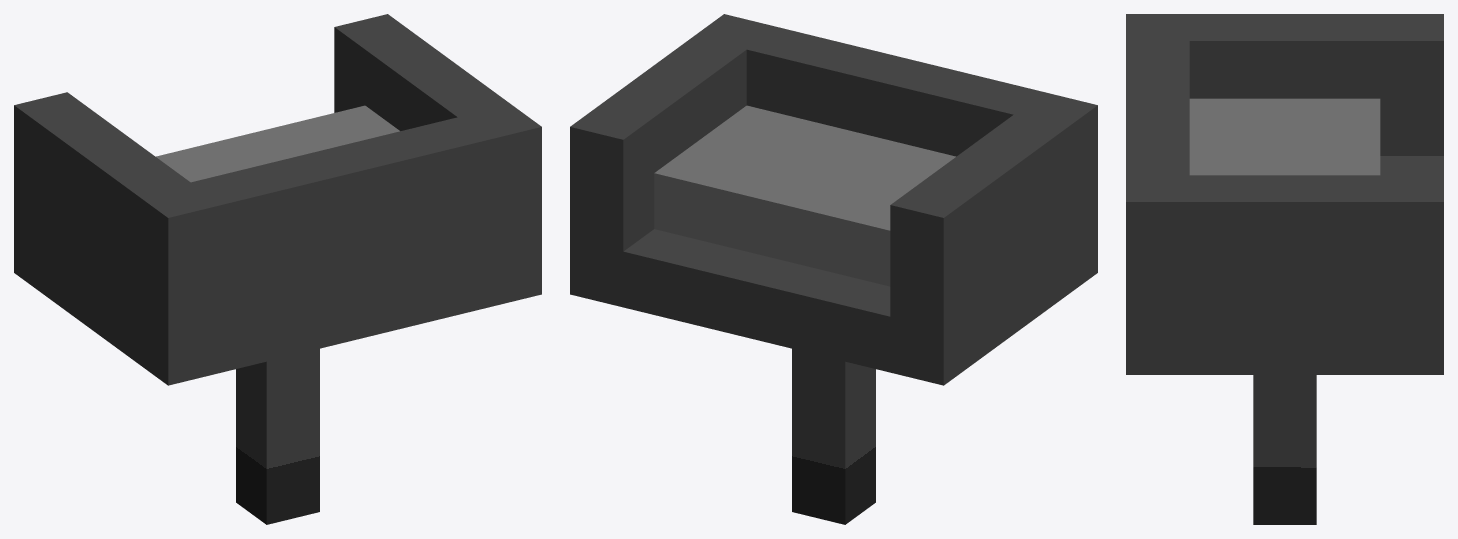
File: obj_grill.fbx
The picture shows the model from 3 angles, left to right: view 1: azimuth 30°, elevation 25°; view 2: azimuth 150°, elevation 25°; view 3: azimuth 270°, elevation 25°; orthographic projection. The views are drawn at different scales.
Visible parts, largest first — view 1: obj_grill; view 2: obj_grill; view 3: obj_grill.
Boxes of the visible parts, <box> form: obj_grill: <box>14,14,541,524</box>; obj_grill: <box>570,14,1097,524</box>; obj_grill: <box>1126,14,1443,524</box>.
Size of the model in its own units: 0.7 by 0.5 by 0.7.
1 material, 1 textured.
